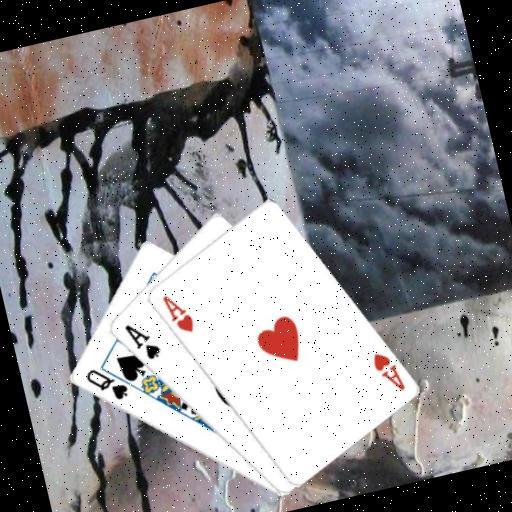AH: (367, 345, 407, 398), (158, 287, 198, 339)
AS: (120, 316, 164, 367)
QS: (81, 359, 132, 408)
